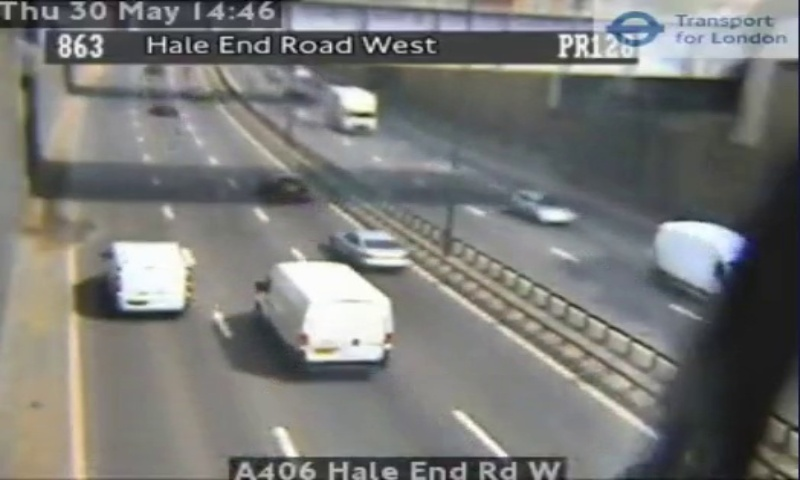car: (329, 231, 409, 266)
van: (258, 262, 393, 371), (106, 241, 192, 312)
